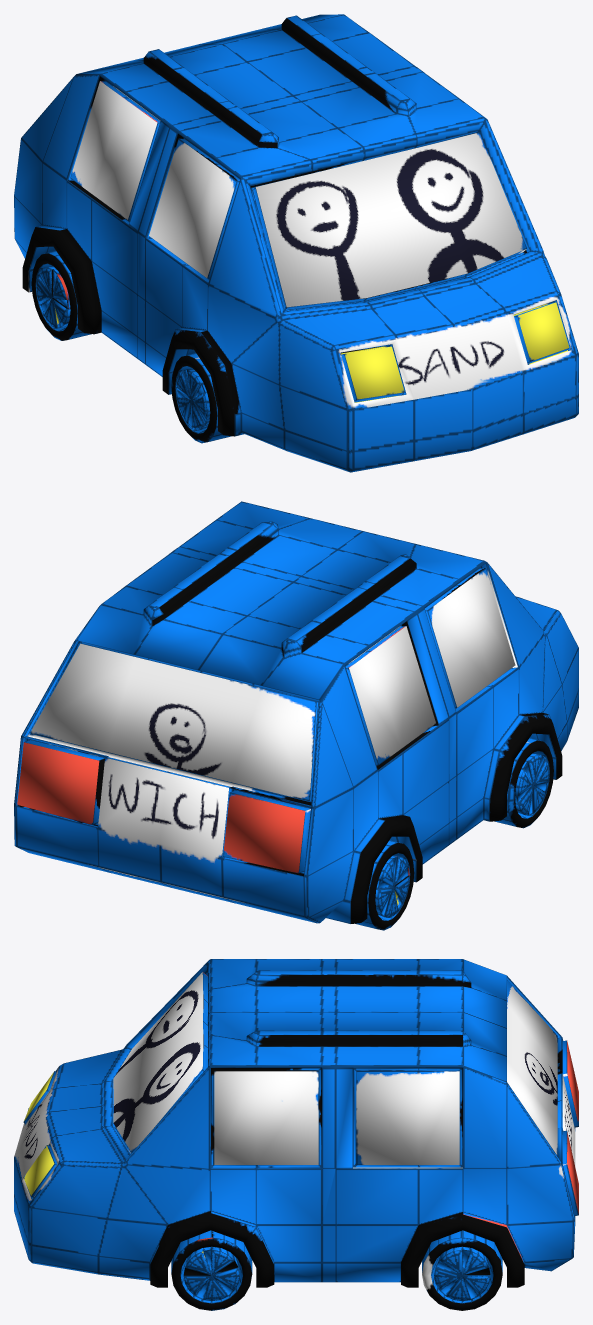
The model's file is Car_BLUE.fbx.
3 views of the same model, one above another, from view 1: azimuth 30°, elevation 25°; view 2: azimuth 150°, elevation 25°; view 3: azimuth 270°, elevation 25° (orthographic). The views are drawn at different scales.
Parts seen in each view (by area): view 1: Car Model; view 2: Car Model; view 3: Car Model.
Part boxes in pixels (x1,y1,x2,y2): Car Model: (14, 14, 578, 472); Car Model: (14, 501, 578, 930); Car Model: (14, 959, 578, 1310).
Size of the model in its own units: 320 by 236 by 511.
Materials: 1 (1 with a texture image).
